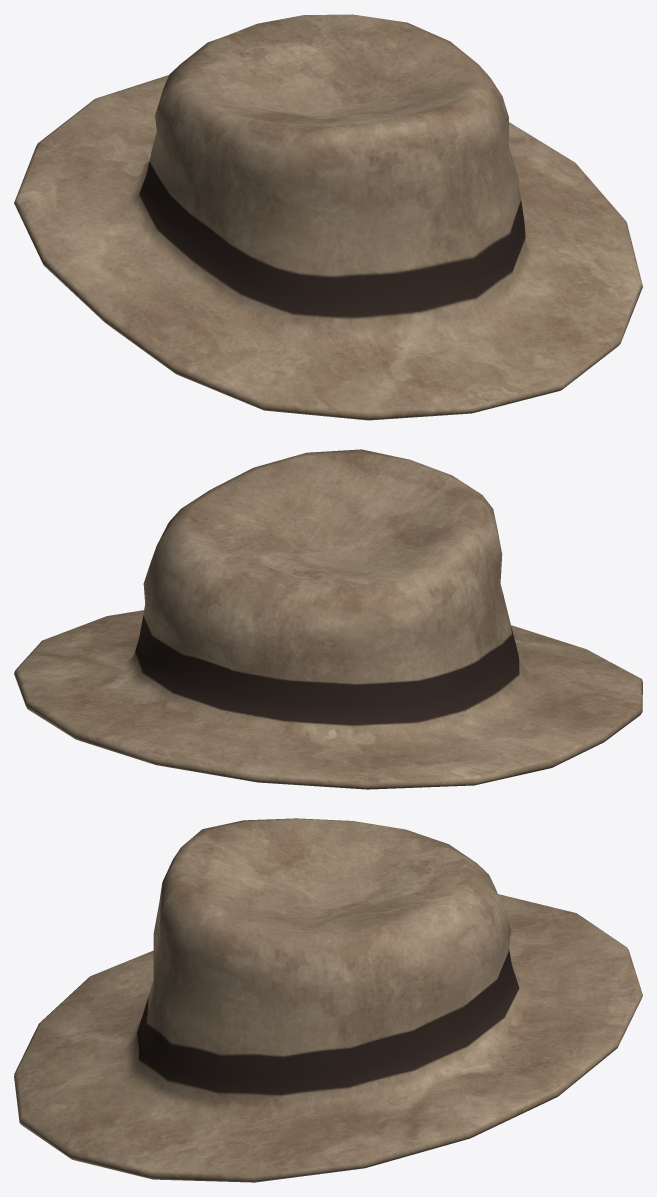
3 views of the same model, one above another, from view 1: azimuth 30°, elevation 25°; view 2: azimuth 150°, elevation 25°; view 3: azimuth 270°, elevation 25° (orthographic). The views are drawn at different scales.
Parts seen in each view (by area): view 1: SM_Hat; view 2: SM_Hat; view 3: SM_Hat.
Boxes of the visible parts, <box> form: SM_Hat: <box>14,14,642,420</box>; SM_Hat: <box>14,449,642,789</box>; SM_Hat: <box>14,818,642,1182</box>.
Size of the model in its own units: 0.2909 by 0.1225 by 0.3114.
Materials: 1 (1 with a texture image).
